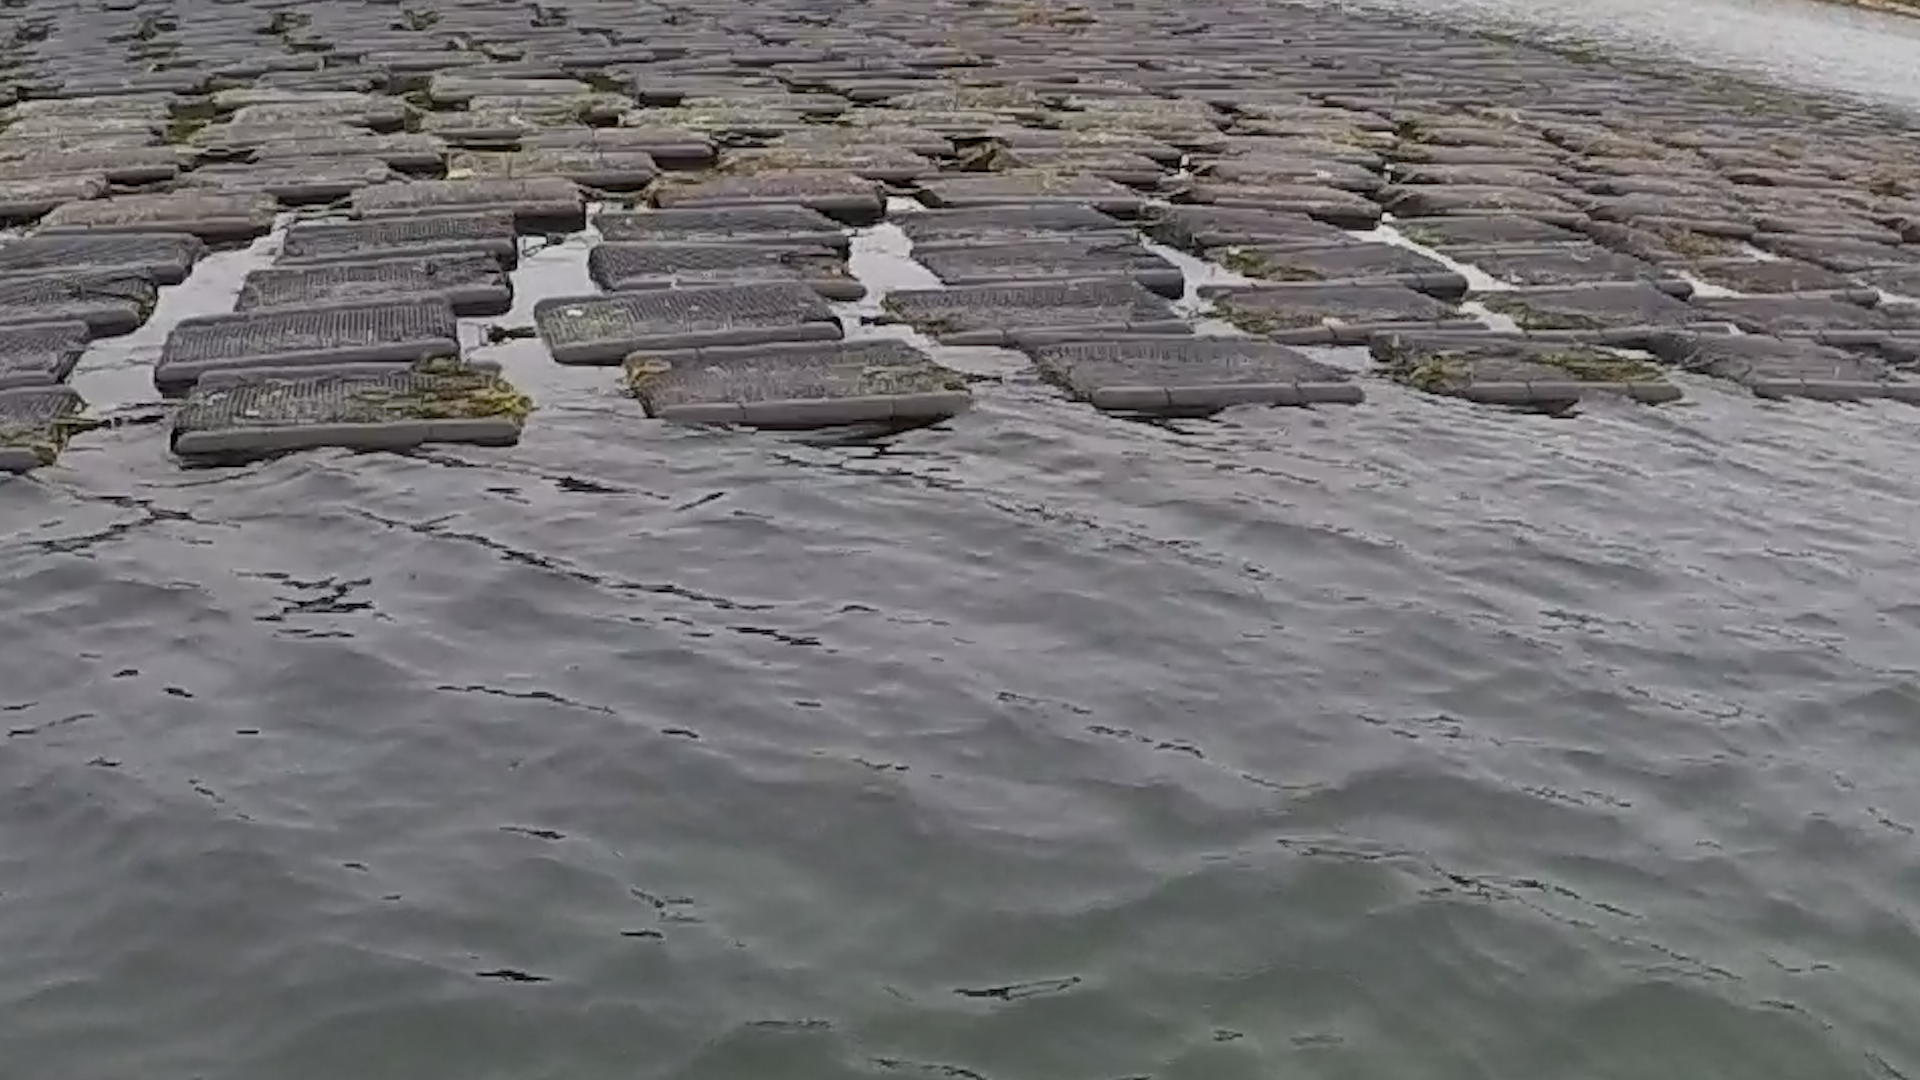bag: (175, 352, 516, 465), (618, 335, 964, 429)
